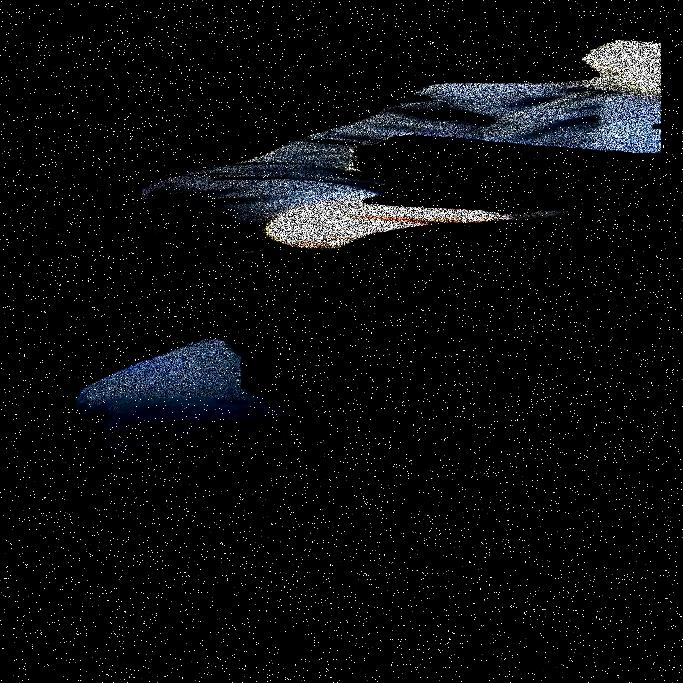Pessoa: (141, 0, 360, 682)
